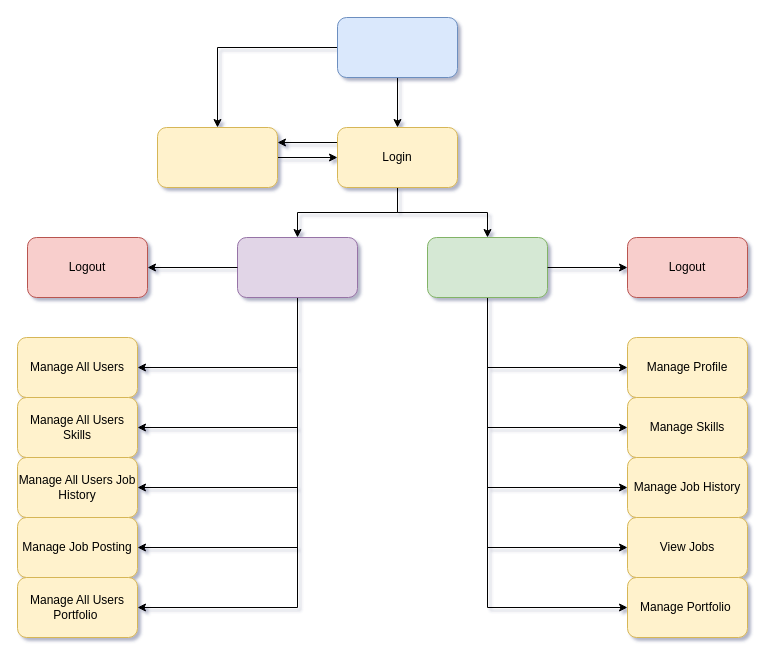
Image size: 771x661. Some labels were removed from this diagram. Here are the shapes that lost their labels. From the top down, the centre of each, then its label:
At pixel 397 47: "HomePage".
At pixel 217 157: "Register".
At pixel 297 267: "Admin".
At pixel 487 267: "User".
